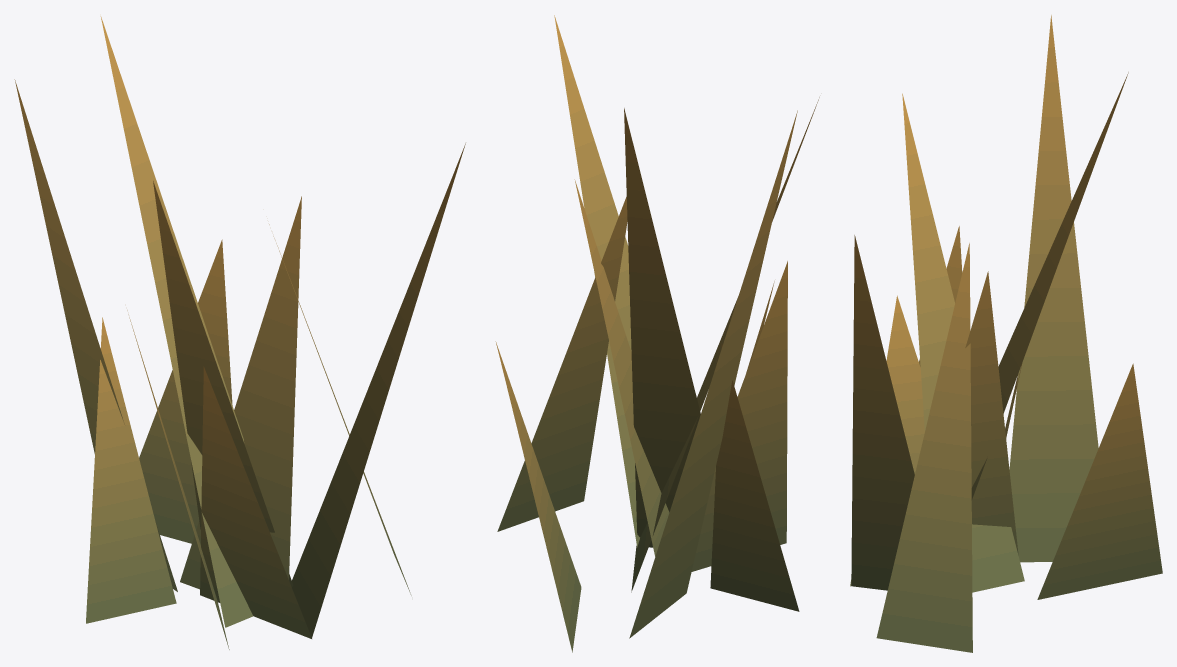
File: grass_dry_1.glb
The picture shows the model from 3 angles, left to right: view 1: azimuth 30°, elevation 25°; view 2: azimuth 150°, elevation 25°; view 3: azimuth 270°, elevation 25°; orthographic projection. The views are drawn at different scales.
Visible parts, largest first — view 1: grass_dry_2; view 2: grass_dry_2; view 3: grass_dry_2.
Boxes of the visible parts, x1,y1,x2,y2 form: grass_dry_2: (14, 16, 465, 649); grass_dry_2: (495, 15, 819, 652); grass_dry_2: (850, 15, 1162, 652).
Size of the model in its own units: 0.3299 by 0.4832 by 0.2803.
Materials: 1 (1 with a texture image).
